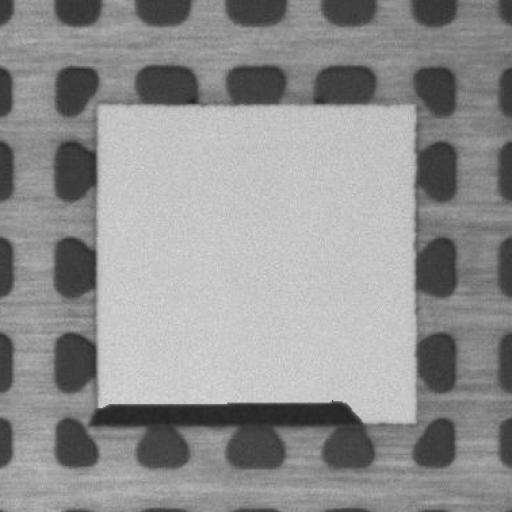DIE_BROKEN: (88, 397, 366, 424)
